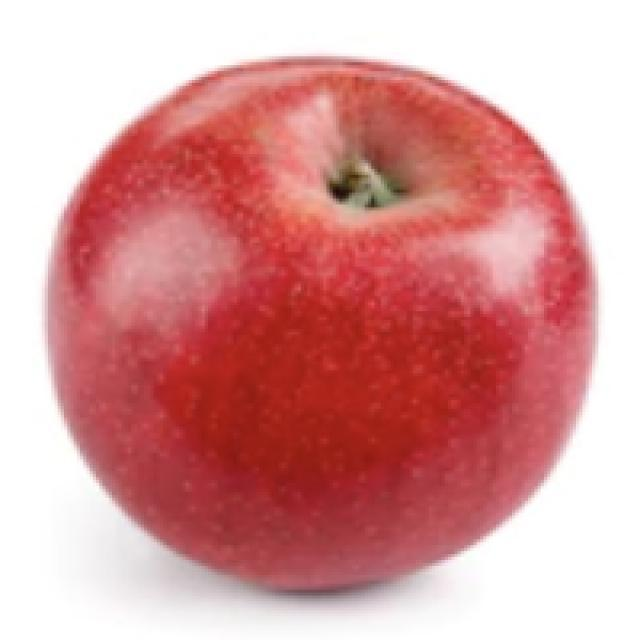Fresh Apple: (52, 62, 595, 578)
